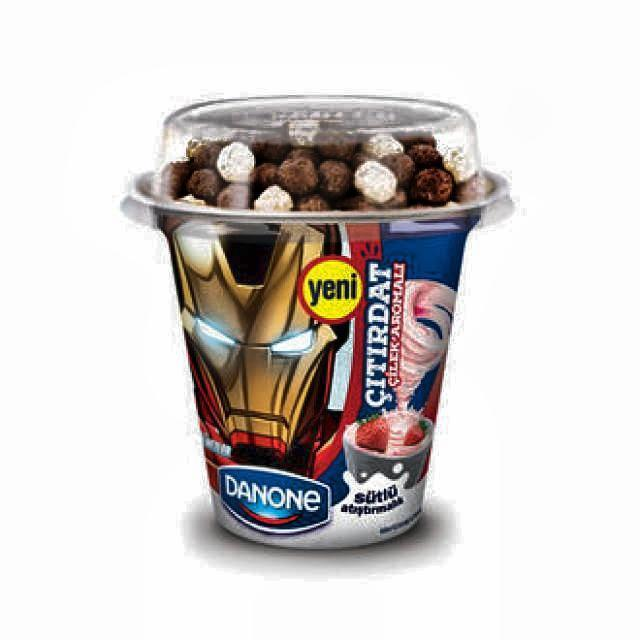plastic: (123, 91, 512, 552)
